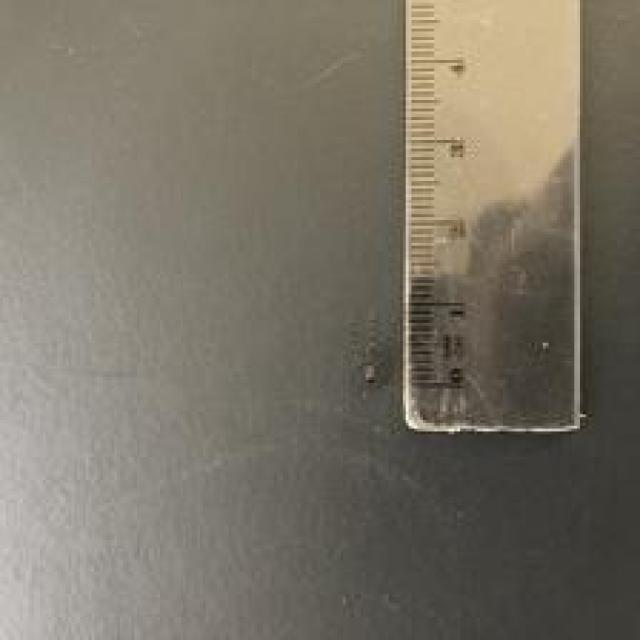Aedes albopictus: (395, 0, 590, 434)
